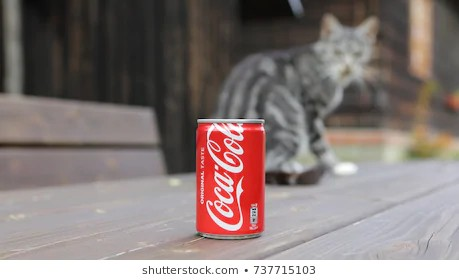coke-can: (190, 115, 267, 240)
